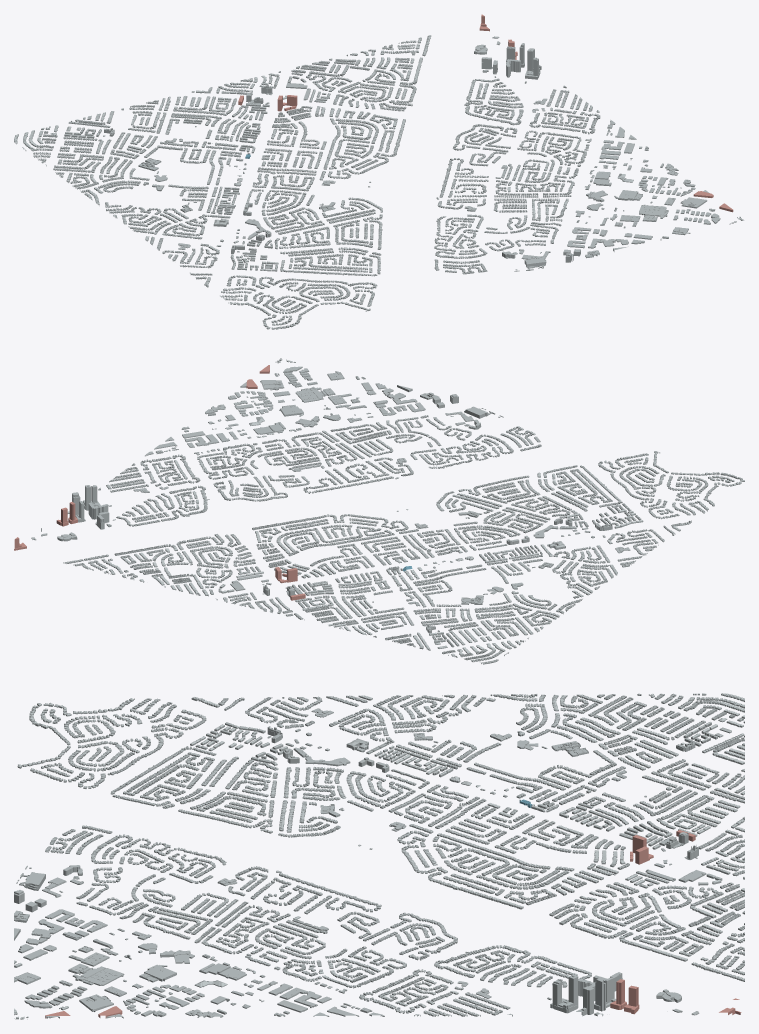
The model's file is east-credit-creditview.glb.
3 views of the same model, one above another, from view 1: azimuth 30°, elevation 25°; view 2: azimuth 150°, elevation 25°; view 3: azimuth 270°, elevation 25° (orthographic). The views are drawn at different scales.
Parts seen in each view (by area): view 1: existing-62, existing-22, existing-63, existing-61; view 2: existing-62, existing-22, existing-63, existing-61; view 3: existing-62, existing-22, existing-63, existing-61, existing-63-63-6237, existing-63-63-6238.
Part boxes in pixels (left/top/right/bottom): existing-62: left=230, top=106, right=744, bottom=276; existing-22: left=14, top=71, right=280, bottom=287; existing-63: left=283, top=35, right=636, bottom=139; existing-61: left=220, top=275, right=377, bottom=329; existing-62: left=181, top=358, right=643, bottom=578; existing-22: left=215, top=520, right=691, bottom=664; existing-63: left=31, top=437, right=271, bottom=596; existing-61: left=598, top=451, right=744, bottom=519; existing-62: left=14, top=722, right=629, bottom=1019; existing-22: left=191, top=693, right=744, bottom=879; existing-63: left=313, top=860, right=744, bottom=1016; existing-61: left=17, top=698, right=206, bottom=788; existing-63-63-6237: left=550, top=974, right=578, bottom=1013; existing-63-63-6238: left=594, top=977, right=616, bottom=1011.
Bounding box in the file's own units: 3300 × 179 × 3200.
